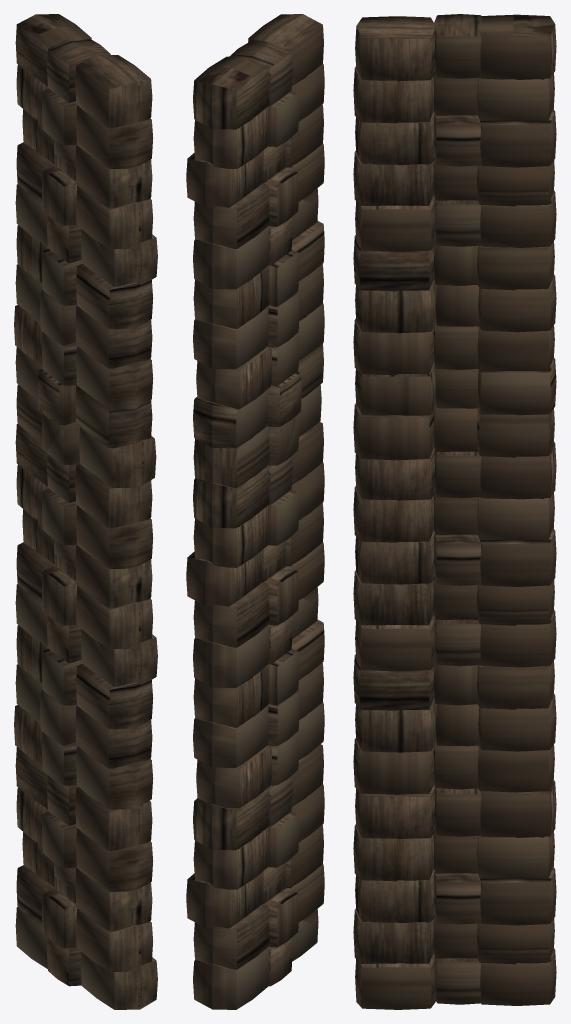
The model's file is SoporteWall.fbx.
3 renders of one model, left to right at view 1: azimuth 30°, elevation 25°; view 2: azimuth 150°, elevation 25°; view 3: azimuth 270°, elevation 25°, orthographic. The views are drawn at different scales.
Visible parts, largest first — view 1: Object004; view 2: Object004; view 3: Object004.
Part boxes in pixels (x1,y1,x2,y2): Object004: (14,14,157,1009); Object004: (186,14,324,1009); Object004: (353,14,556,1009).
Size of the model in its own units: 41.18 by 555 by 105.
